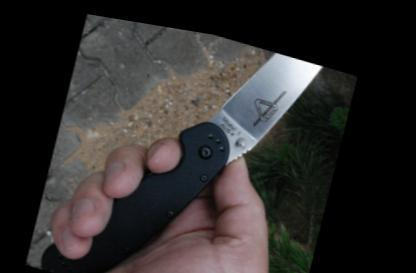knife: (45, 9, 351, 271)
